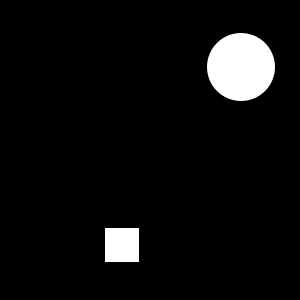circle: (105, 228, 139, 262)
rectangle: (207, 33, 275, 101)
